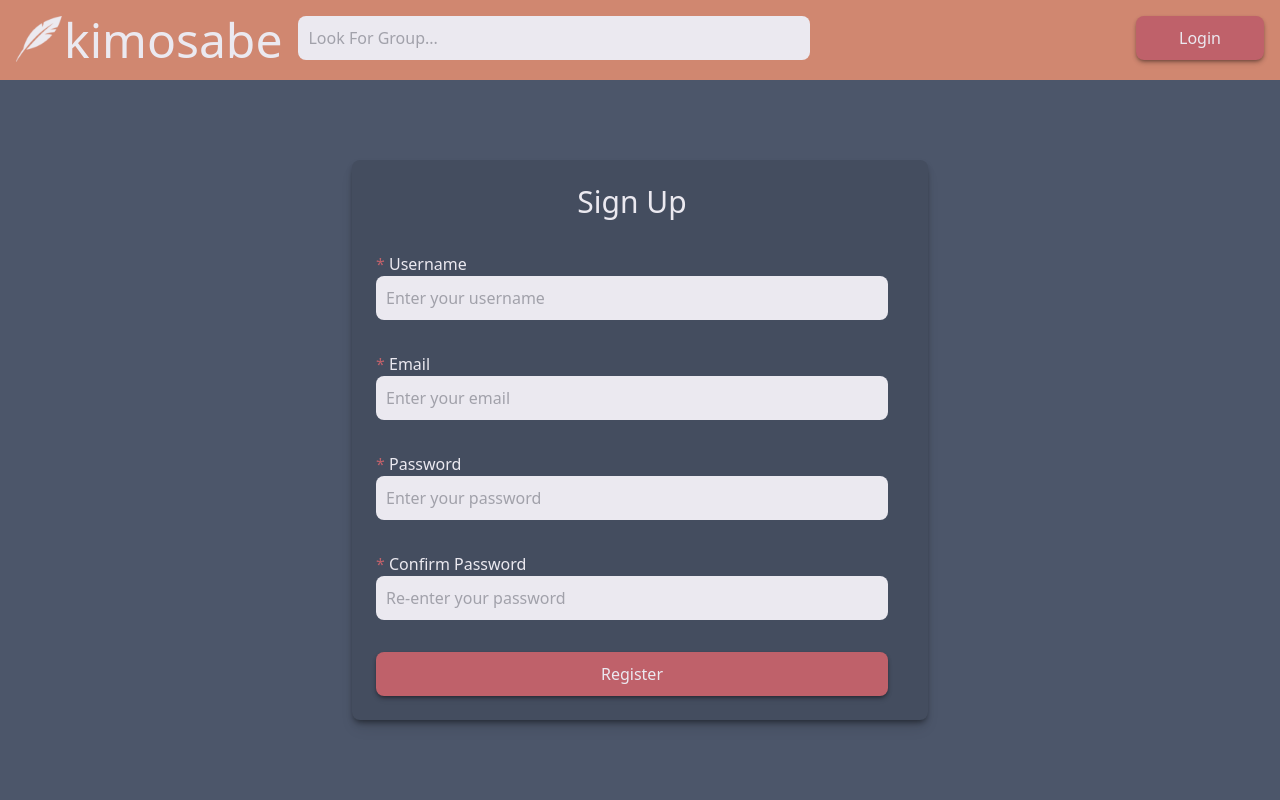
pages/register.js › when register button is clicked › username/password fields less than 3 characters long › error should be displayed
What coordinates should you click on to do the following:
click the button with test id "rp-register-button"
I would click on:
 (632, 674)
Its box is [376,652,888,696].
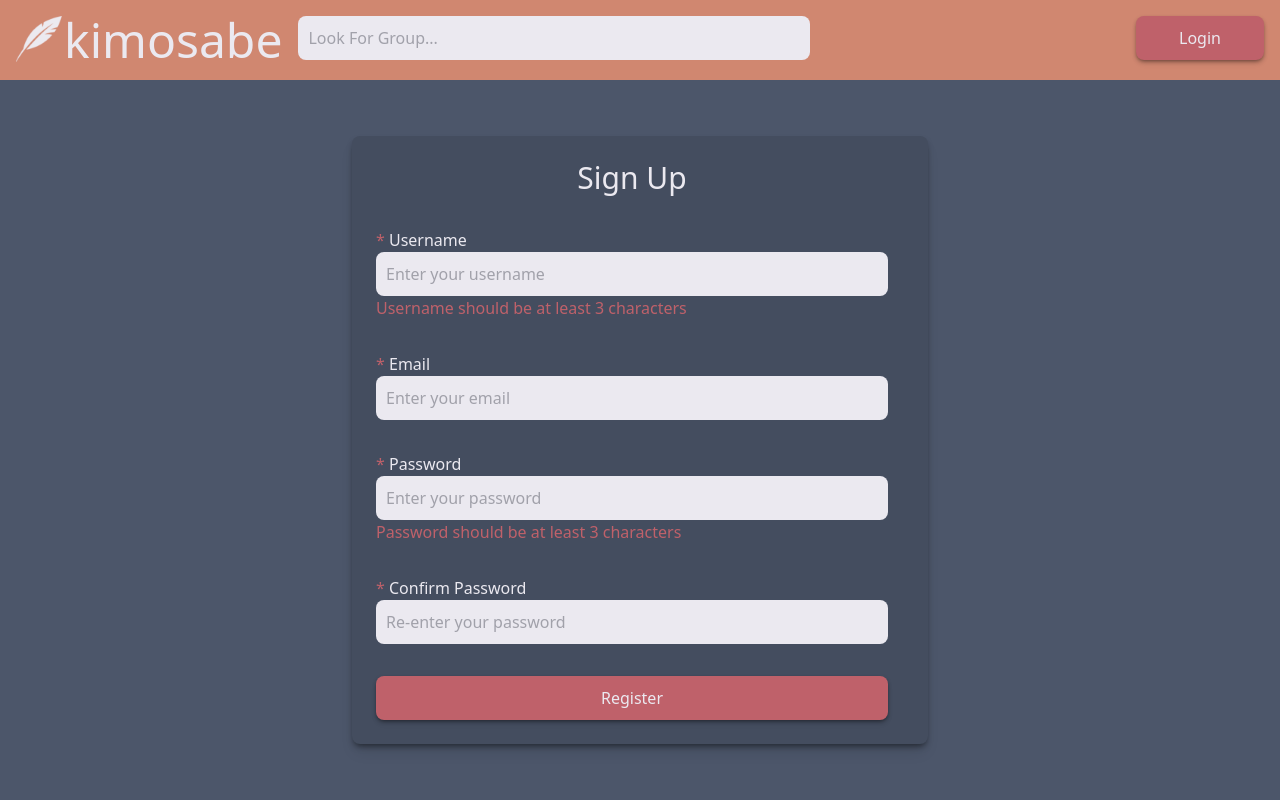
Now the text with test id "rp-username-error" reads "Username should be at least 3 characters", box [376,297,687,319]
Now the text with test id "rp-password-error" reads "Password should be at least 3 characters", box [376,521,681,543]
